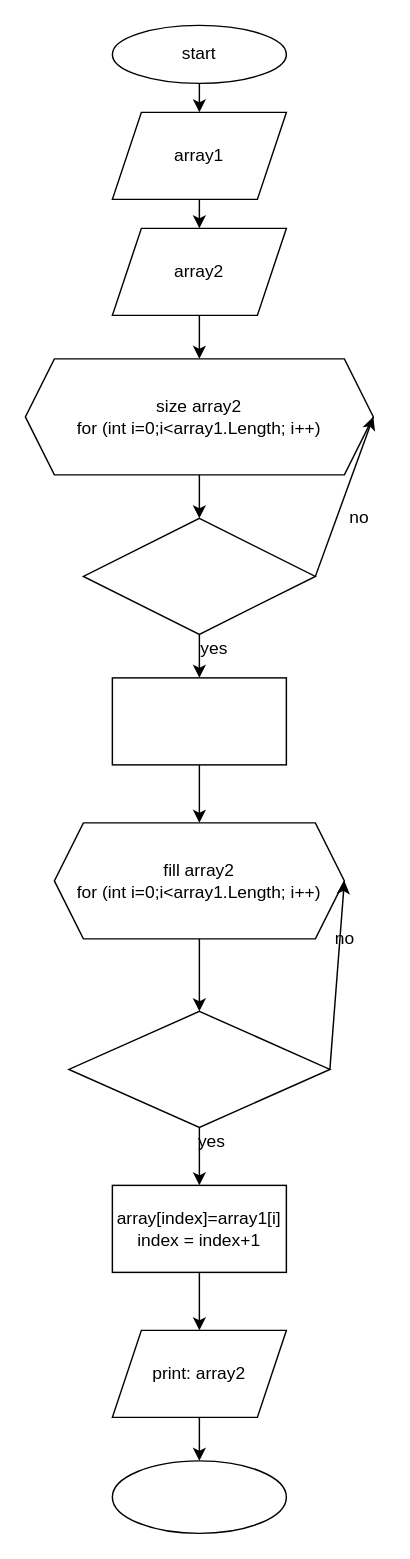
Some shapes in this 410 by 1559 pixel diagram are drawn without their labels. Each missing label, with the centre of its shape:
"end" belongs at (x=198, y=1496).
"if (array1[i].Length<=3" belongs at (x=198, y=1068).
"if (array[i].Length<=3;" belongs at (x=198, y=575).
"size = size+1" belongs at (x=198, y=720).
